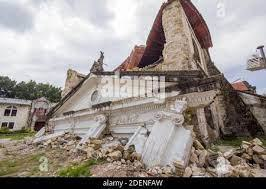sagging_roof: (62, 34, 209, 86)
